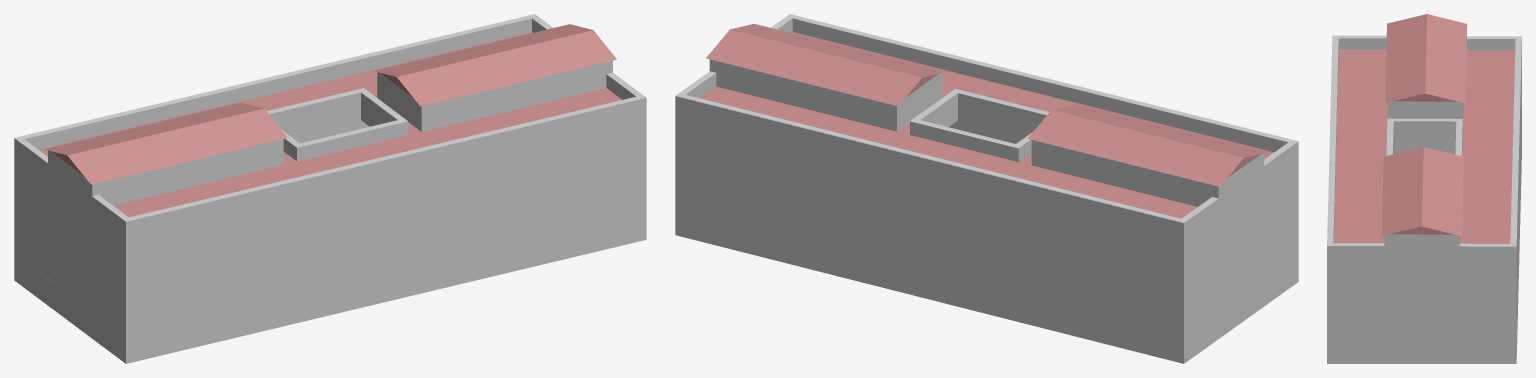
Rendered from LOD_Block_1_64.glb.
3 views of the same model, side by side, from view 1: azimuth 30°, elevation 25°; view 2: azimuth 150°, elevation 25°; view 3: azimuth 270°, elevation 25° (orthographic). The views are drawn at different scales.
Visible parts, largest first — view 1: mesh_CityEngineMaterial_868; view 2: mesh_CityEngineMaterial_868; view 3: mesh_CityEngineMaterial_868.
Boxes of the visible parts, <box> form: mesh_CityEngineMaterial_868: <box>14,14,646,363</box>; mesh_CityEngineMaterial_868: <box>675,14,1298,363</box>; mesh_CityEngineMaterial_868: <box>1327,14,1521,363</box>.
Size of the model in its own units: 39.67 by 12.12 by 15.36.
